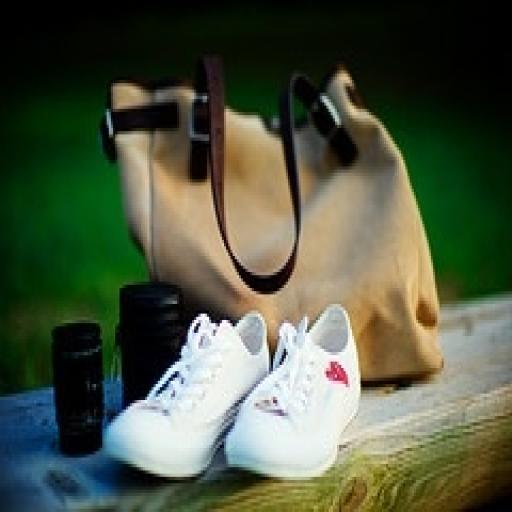shoe: (104, 310, 271, 477), (224, 304, 361, 480)
